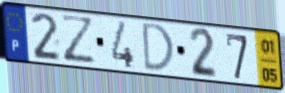2: (30, 12, 64, 63), (187, 26, 219, 80)
4: (110, 20, 136, 71)
7: (225, 31, 250, 81)
D: (142, 21, 177, 73)
Z: (58, 13, 98, 65)
